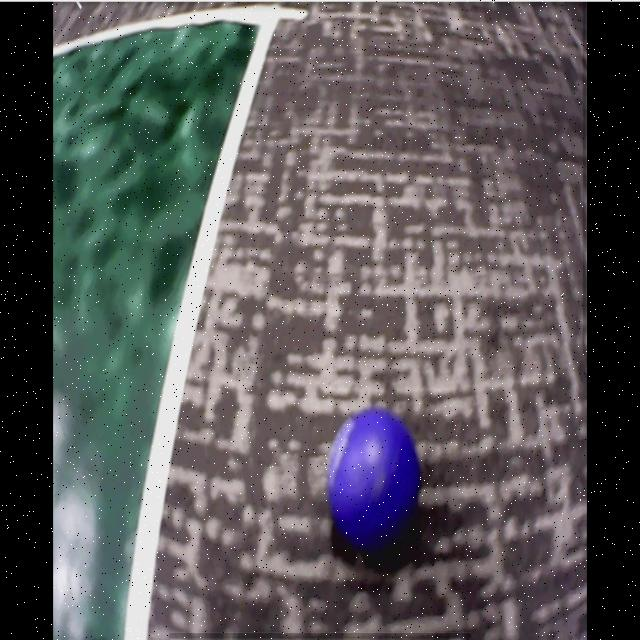ball: (328, 412, 421, 546)
